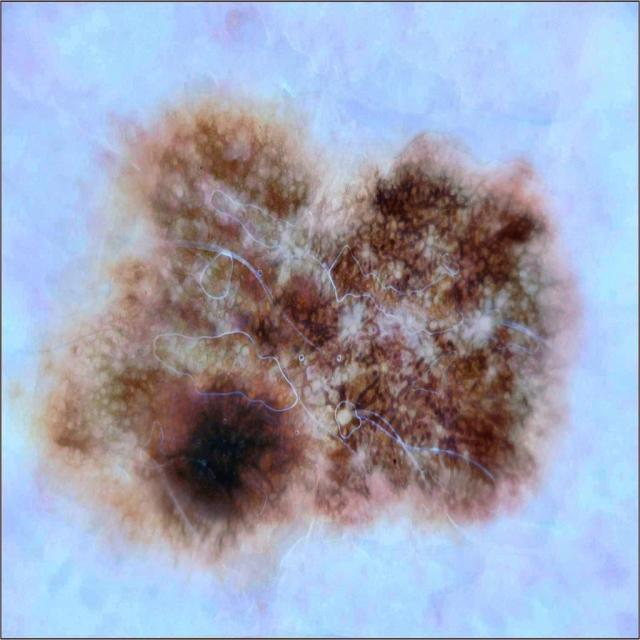Melanocytic-Nevi-NV-: (44, 97, 579, 555)
